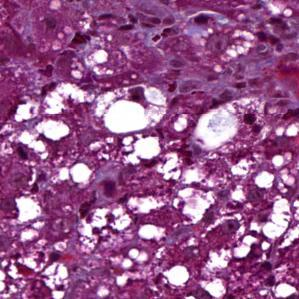ballooning: (188, 96, 263, 154), (94, 81, 171, 137)
